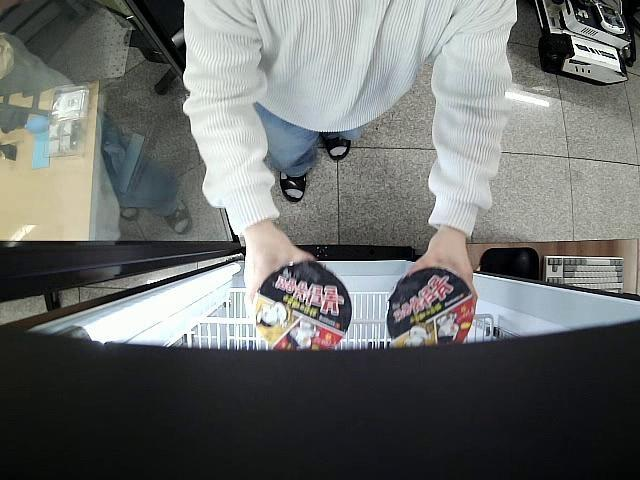07_buldak_L: (252, 260, 354, 351), (384, 265, 478, 348)
